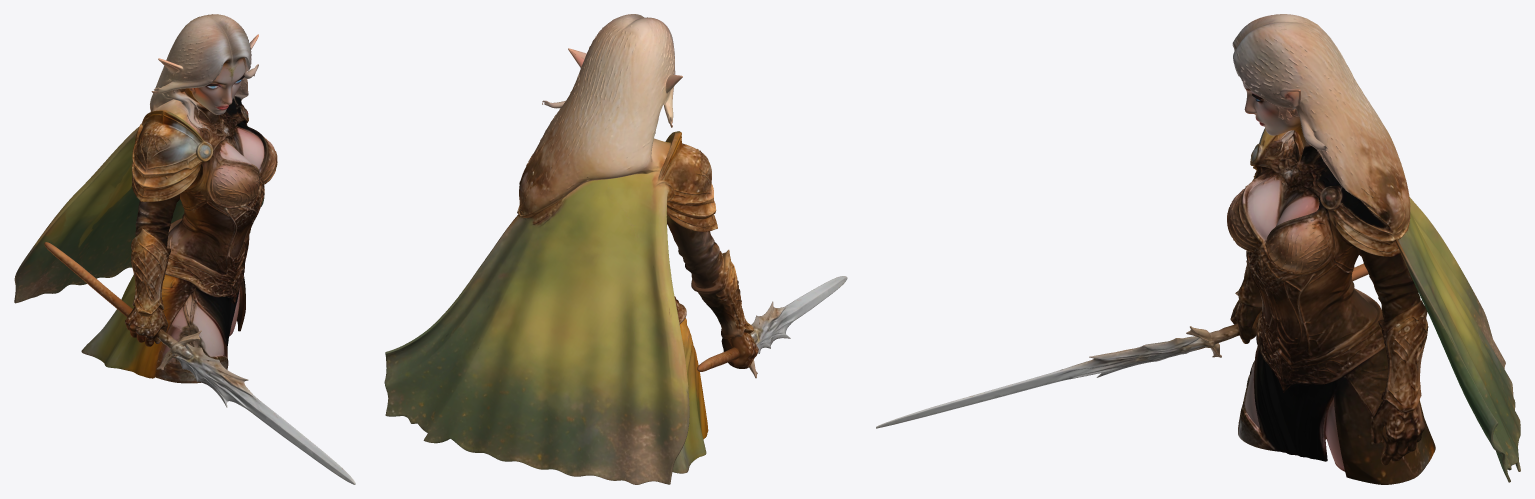
File: elf_warrior_female.glb
3 renders of one model, left to right at view 1: azimuth 30°, elevation 25°; view 2: azimuth 150°, elevation 25°; view 3: azimuth 270°, elevation 25°, orthographic. The views are drawn at different scales.
Visible parts, largest first — view 1: material; view 2: material; view 3: material.
Boxes of the visible parts, bbox=[...] form: material: bbox=[14, 14, 355, 484]; material: bbox=[384, 14, 847, 484]; material: bbox=[876, 14, 1520, 484].
Bounding box in the file's own units: 0.5435 × 0.6975 × 0.9551.
1 material, 1 textured.
